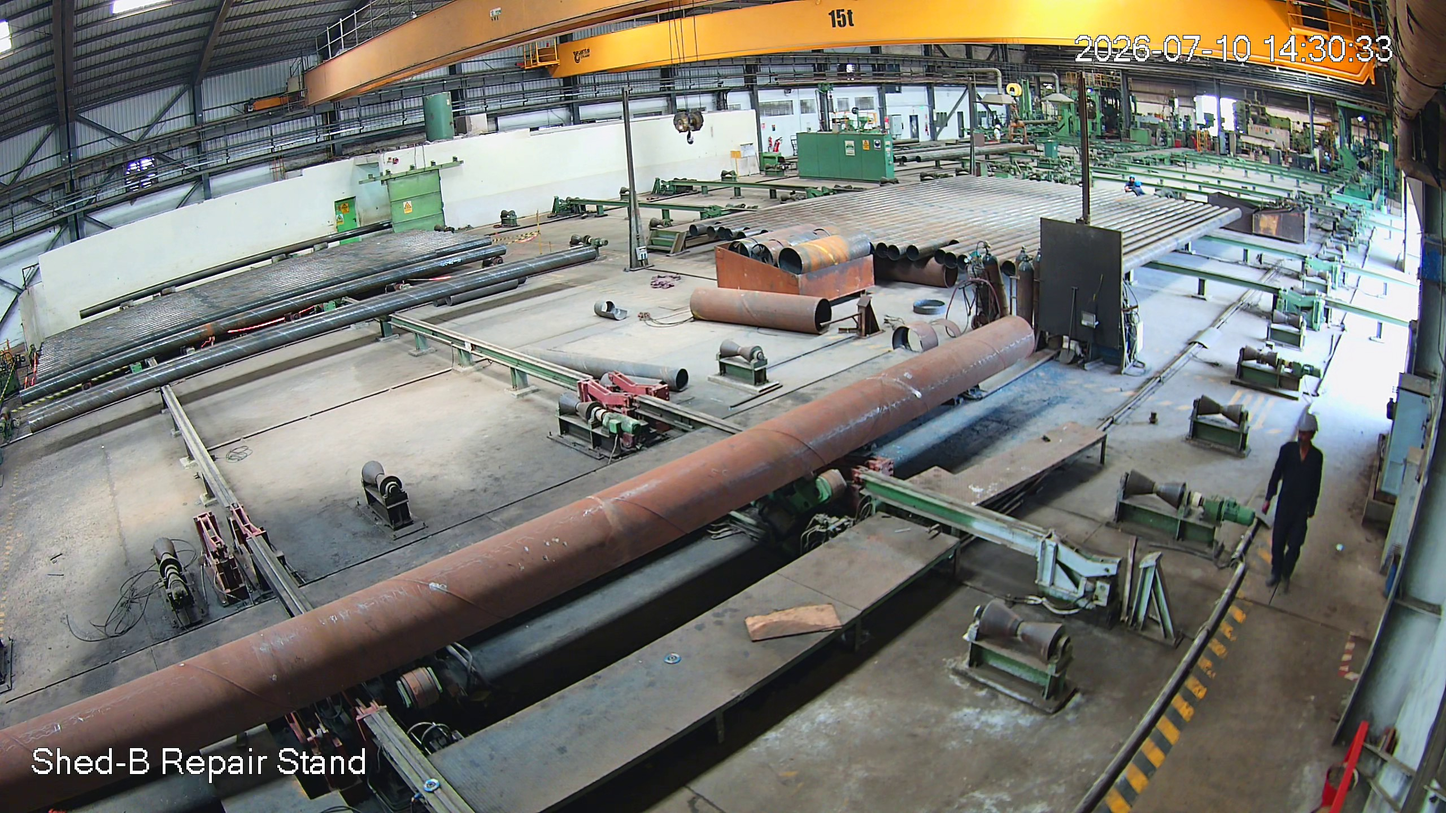Helmet: (1288, 406, 1332, 463)
Person: (1259, 411, 1332, 607)
